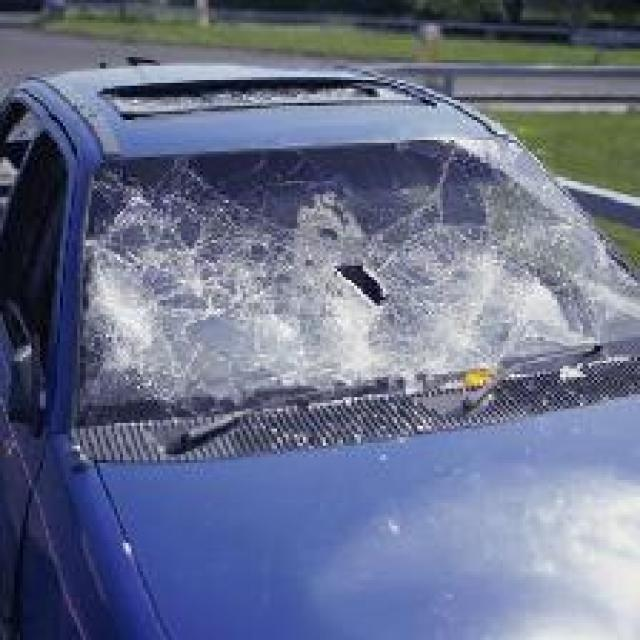damaged: (82, 146, 638, 403)
